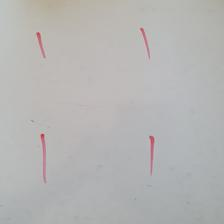location-dna-no-top: (39, 132, 52, 184), (139, 27, 152, 59), (148, 135, 157, 175), (36, 31, 47, 58)
